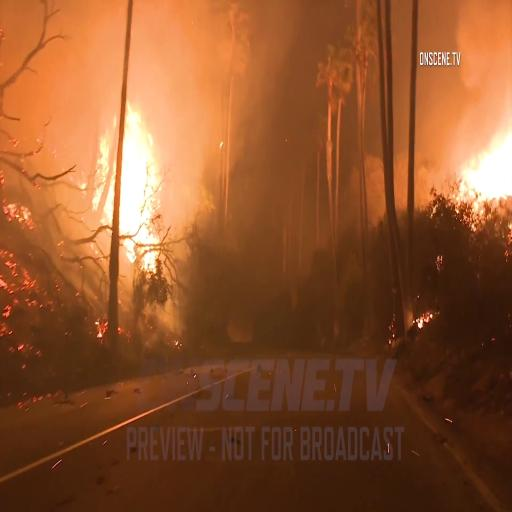fire: (95, 101, 160, 266), (463, 120, 512, 209)
